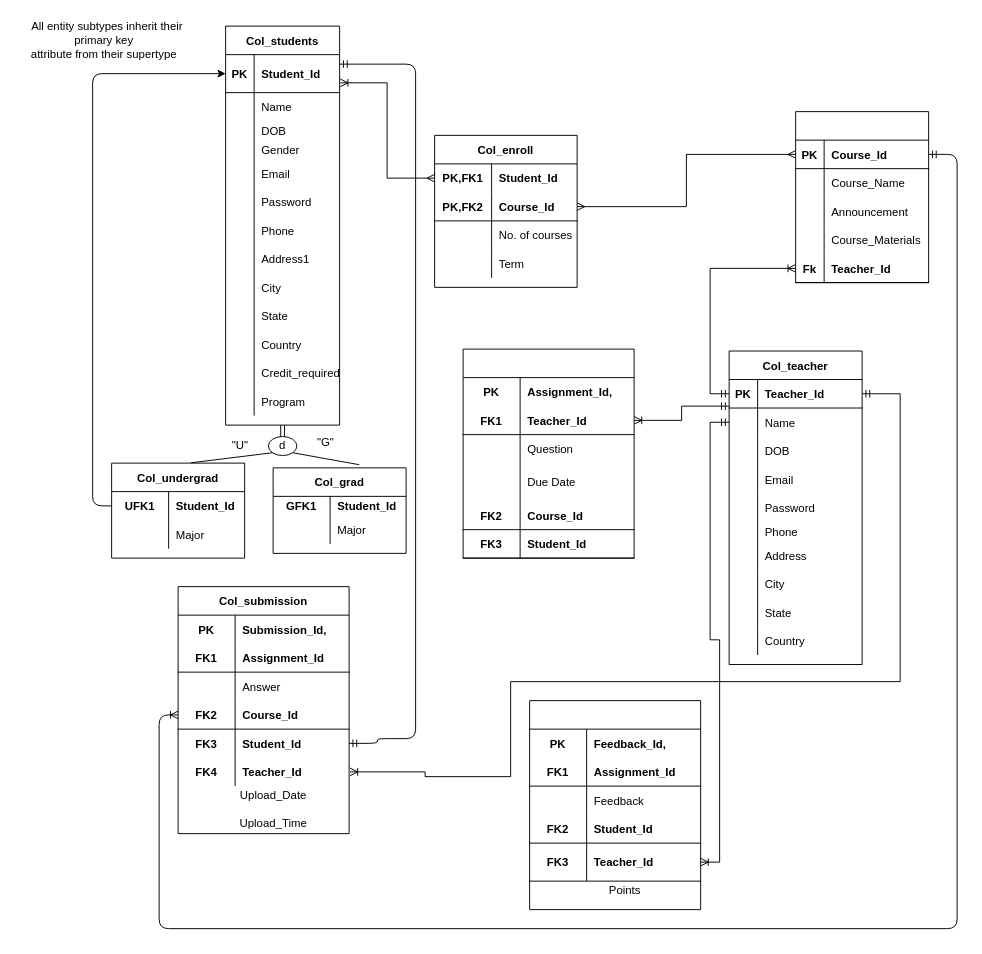
This 982x954 diagram has some shape labels left out. Here are the shapes that lost their labels. From the top down, the box of each, then its label:
(795, 111, 929, 283): Col_course
(462, 348, 634, 558): Col_assignment
(529, 700, 701, 910): Col_feedback
